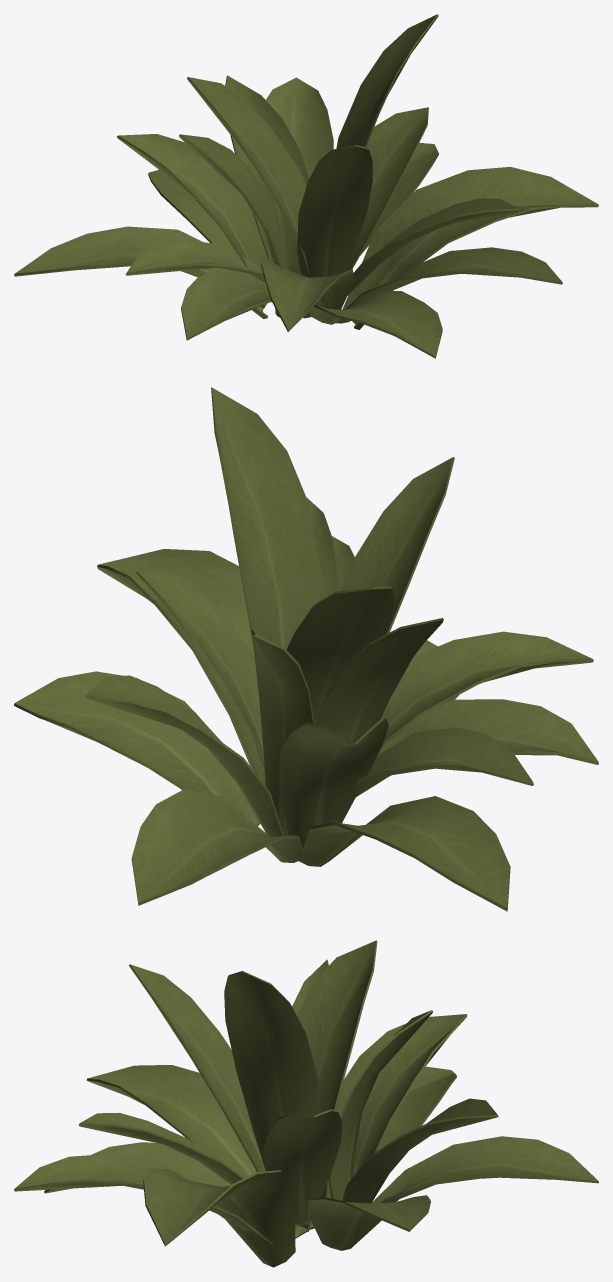
File: Flor.fbx
The picture shows the model from 3 angles, top to bottom: view 1: azimuth 30°, elevation 25°; view 2: azimuth 150°, elevation 25°; view 3: azimuth 270°, elevation 25°; orthographic projection. The views are drawn at different scales.
Parts seen in each view (by area): view 1: Potted_plants; view 2: Potted_plants; view 3: Potted_plants.
Part boxes in pixels (left/top/right/bottom): Potted_plants: left=14, top=14, right=598, bottom=358; Potted_plants: left=14, top=387, right=598, bottom=911; Potted_plants: left=14, top=940, right=598, bottom=1267.
Bounding box in the file's own units: 43.15 × 28.21 × 45.24.
Materials: 1 (1 with a texture image).
